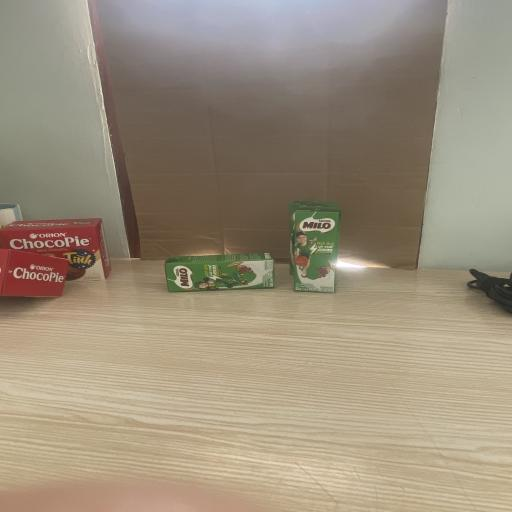chocopie: (0, 221, 105, 282), (0, 248, 70, 298)
milo: (165, 253, 275, 292), (294, 209, 340, 294), (289, 202, 335, 274)
